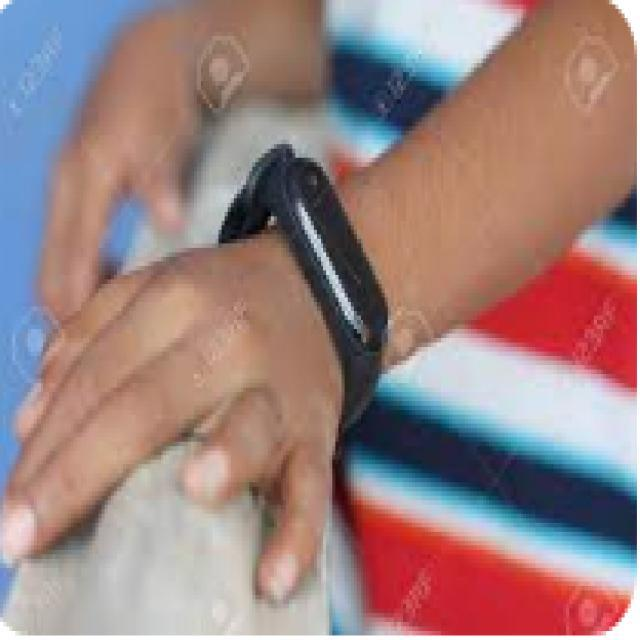Watch: (222, 142, 388, 422)
